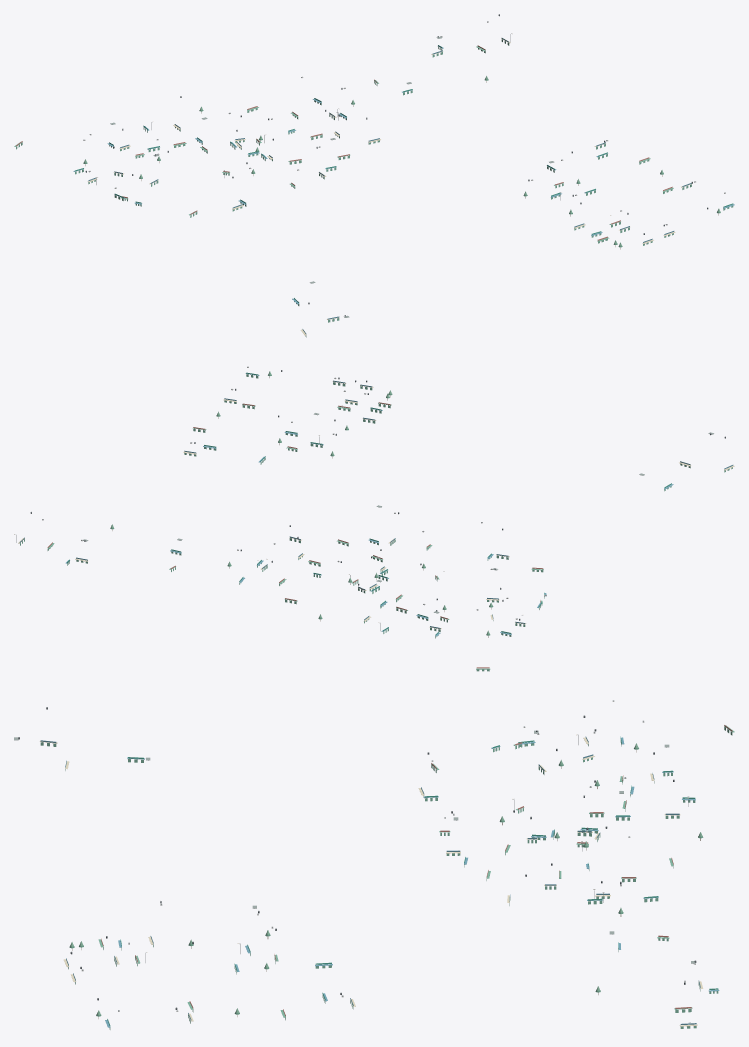
The picture shows the model from 3 angles, top to bottom: view 1: azimuth 30°, elevation 25°; view 2: azimuth 150°, elevation 25°; view 3: azimuth 270°, elevation 25°; orthographic projection. The views are drawn at different scales.
Parts seen in each view (by area): view 1: Station neighborhood architectural details; view 2: Station neighborhood architectural details; view 3: Station neighborhood architectural details.
Part boxes in pixels (x1,y1,x2,y2): Station neighborhood architectural details: (14, 14, 734, 337); Station neighborhood architectural details: (14, 366, 734, 671); Station neighborhood architectural details: (14, 700, 734, 1029).
Bounding box in the file's own units: 441 × 33.9 × 441.
